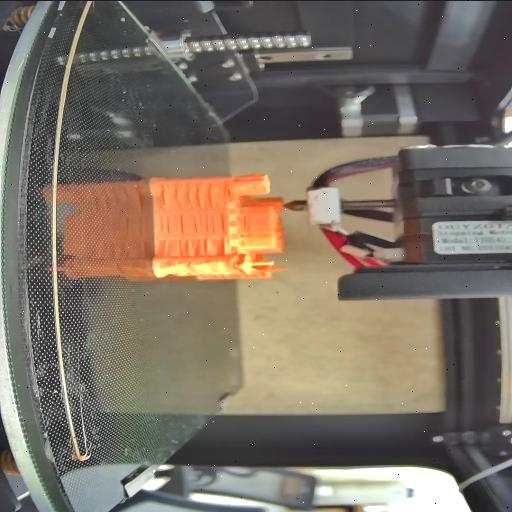cracks: (162, 182, 212, 209), (160, 237, 210, 257), (192, 212, 226, 234), (158, 212, 186, 236), (218, 237, 229, 256), (244, 214, 254, 232), (224, 185, 236, 197)
